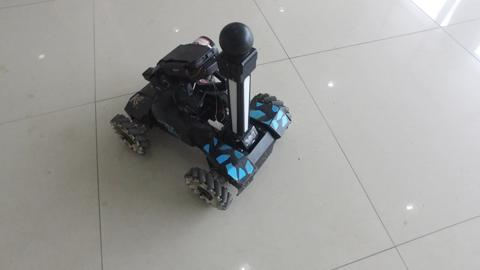chariot: (110, 13, 286, 211)
